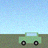vehicle: (19, 33, 41, 45)
